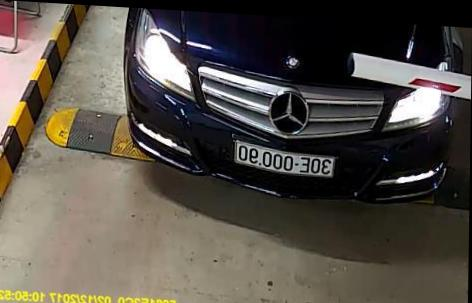License_Plate: (232, 138, 339, 183)
